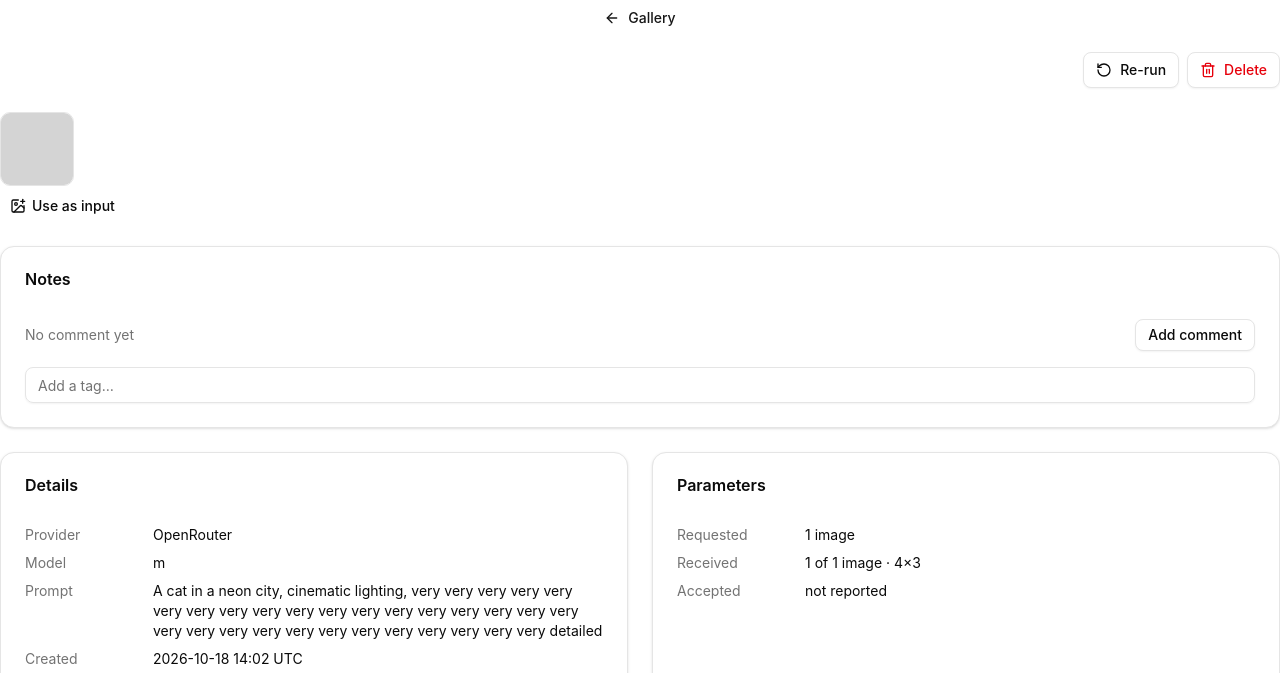
Scenario: Delete a generation (SCR-03) › keeps the generation and explains when the deletion failed
Click the button "Delete": (1234, 70) [1187,52,1279,88]
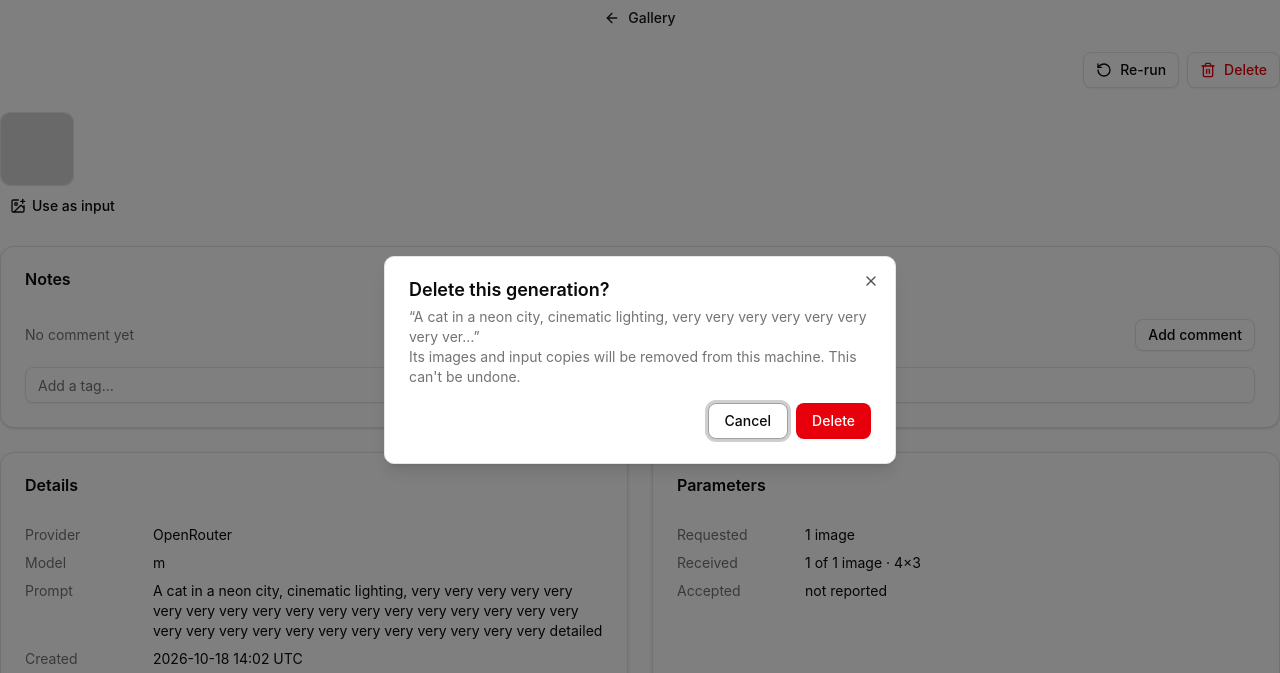
Click the button with aria-label "Delete generation": (834, 421) [796,403,871,439]
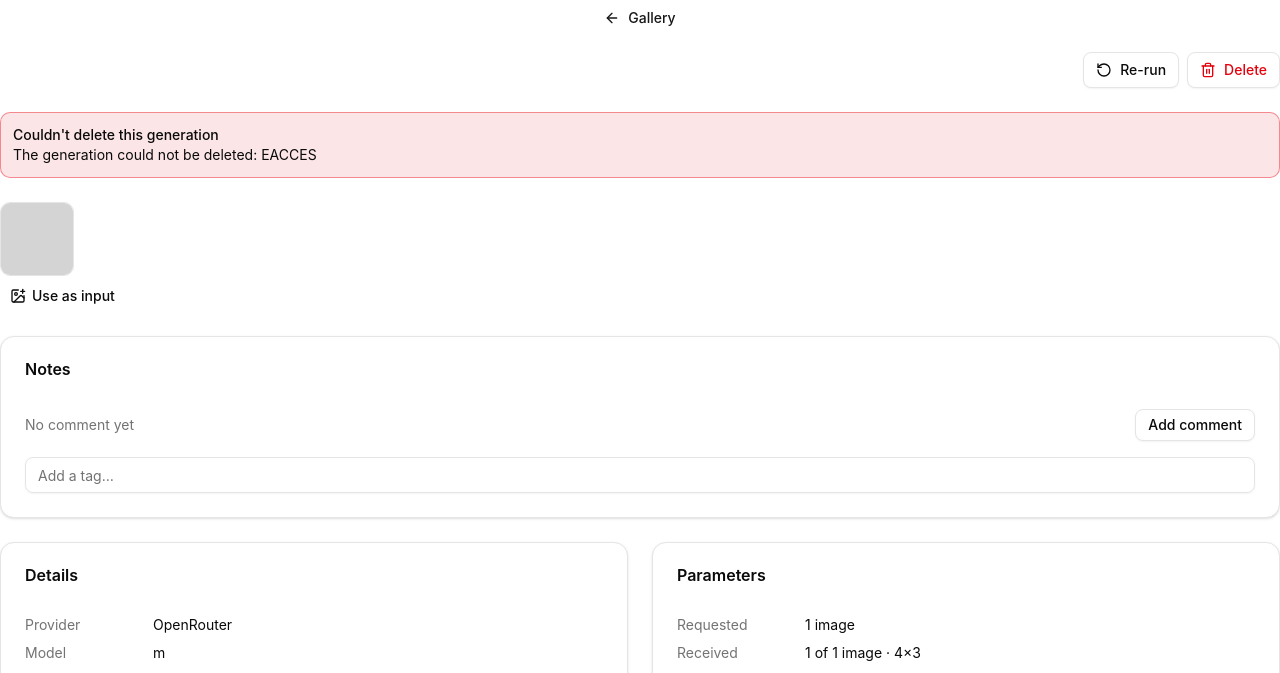
Now the text "Couldn't delete this generation" is shown, box [13,126,219,143]
Now the text "The generation could not be deleted: EACCES" is shown, box [13,146,317,163]
Now the dialog is gone
